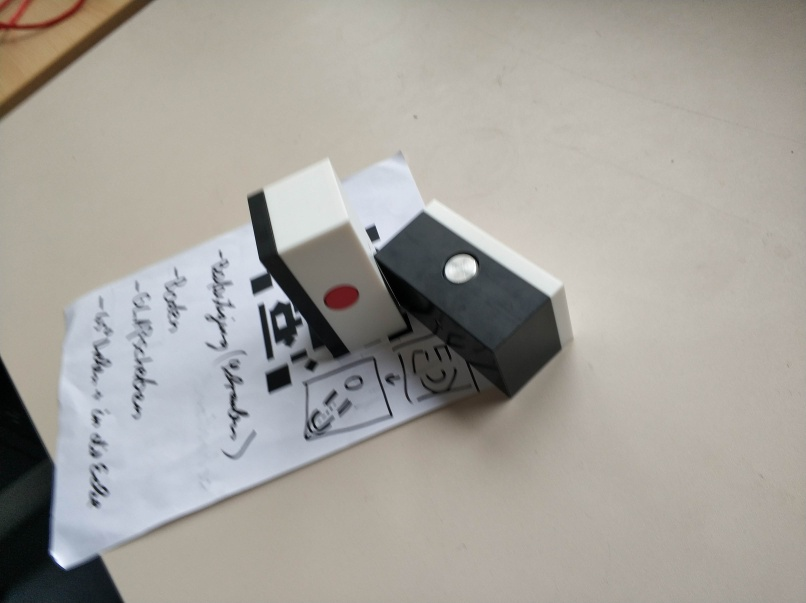black+white+red: (241, 156, 409, 361)
white+black+silver: (376, 195, 578, 401)
